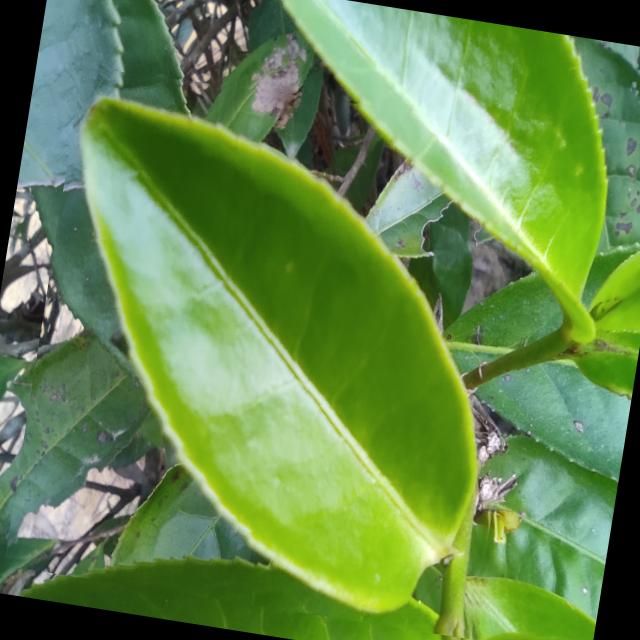Category C(4-7 days): (3, 56, 558, 640)
